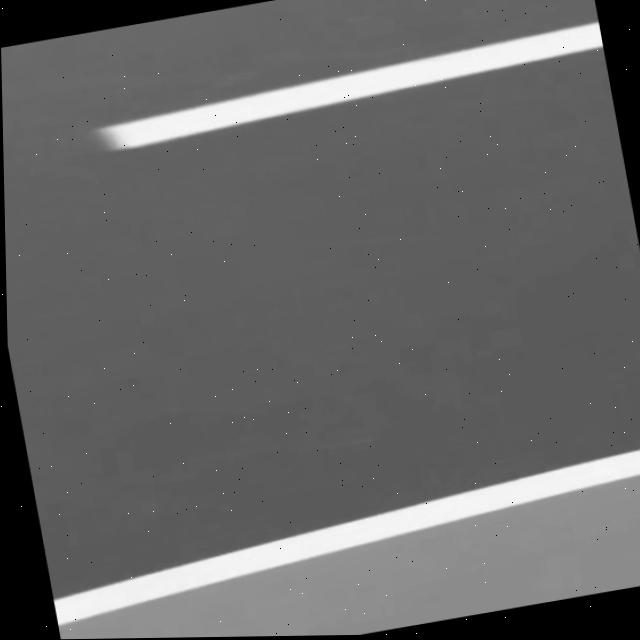center: (98, 20, 603, 147)
right: (54, 448, 640, 624)
